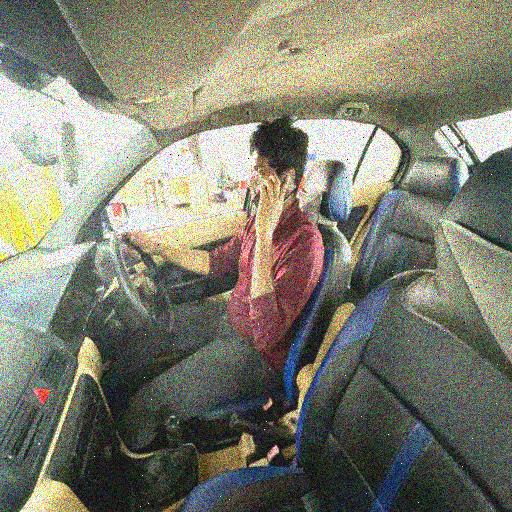Talking_on_phone: (121, 121, 324, 406)
